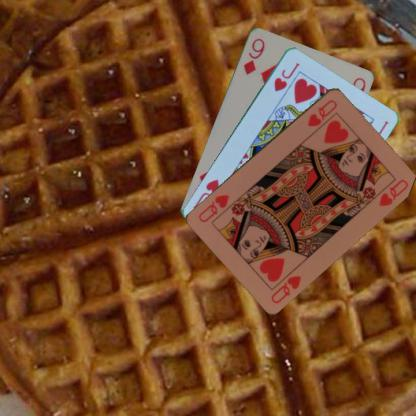9d: (240, 35, 266, 76)
Jh: (271, 60, 301, 92)
Qh: (268, 272, 303, 305), (304, 96, 338, 127)
